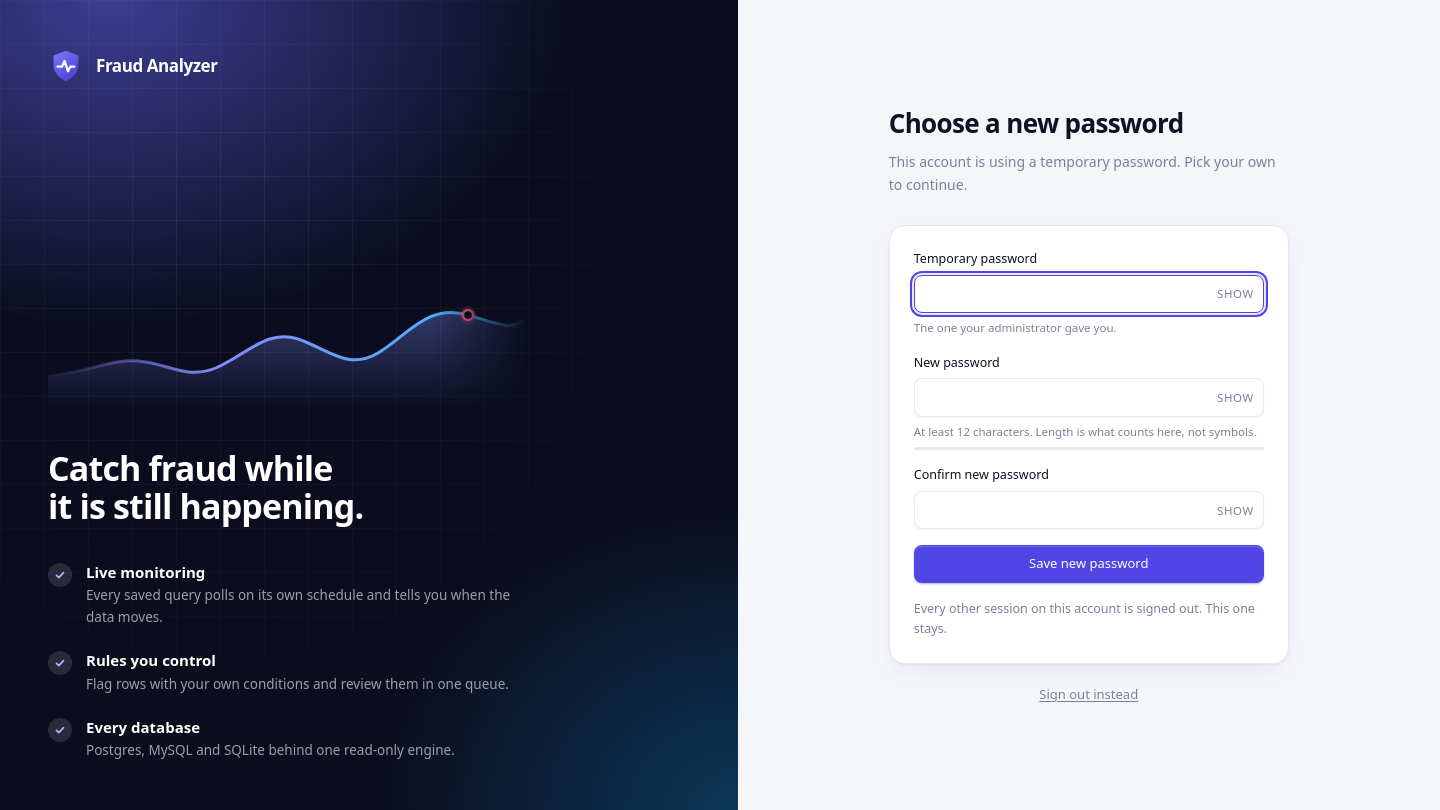
Scenario: what it refuses before spending a round trip › catches a mistyped confirmation on the field, not after the request
Type "temp-one" into the password field labelled "Temporary password" at [1089, 294], box [914, 275, 1264, 313]
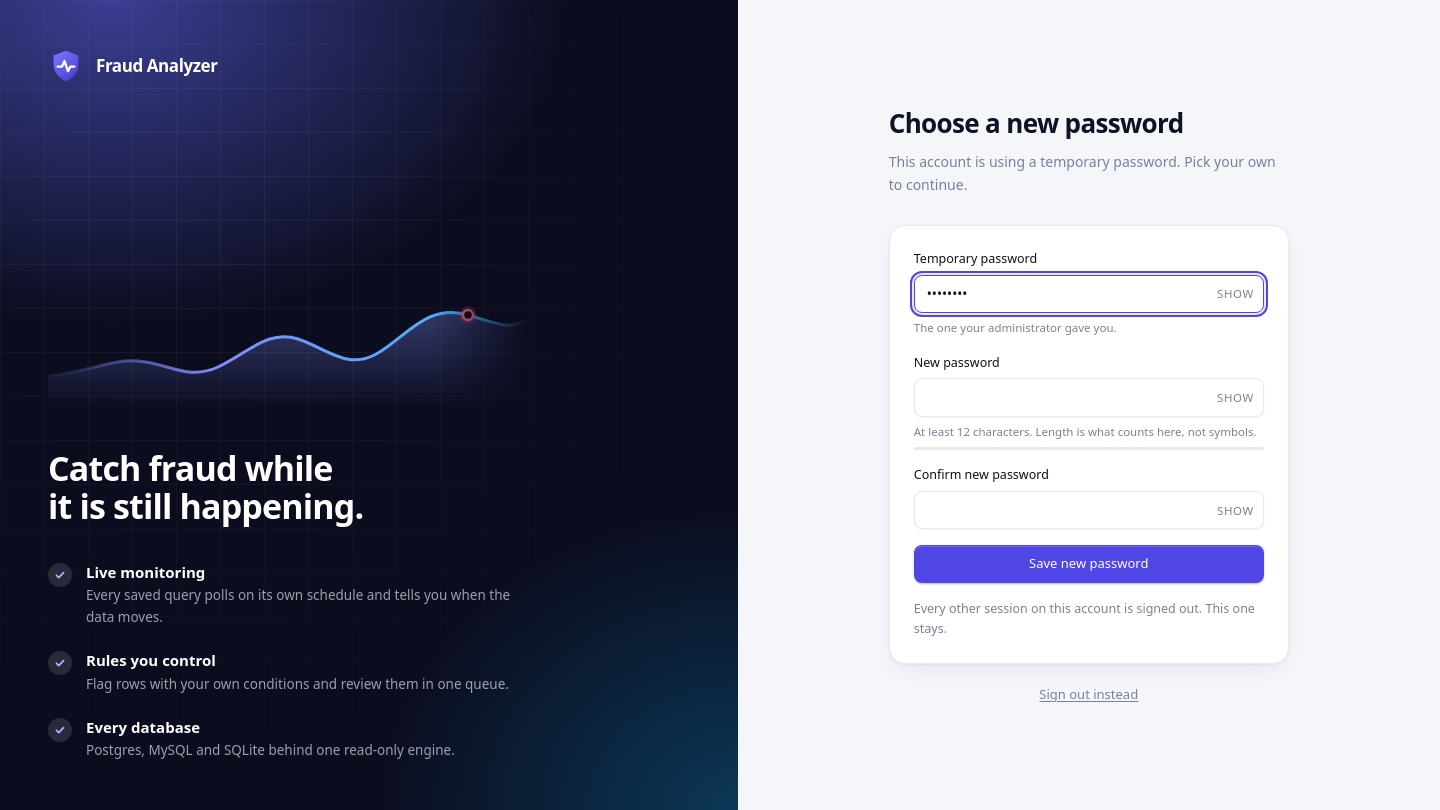
Type "a-perfectly-fine-password" into the password field labelled "New password" at [1089, 398], box [914, 378, 1264, 417]
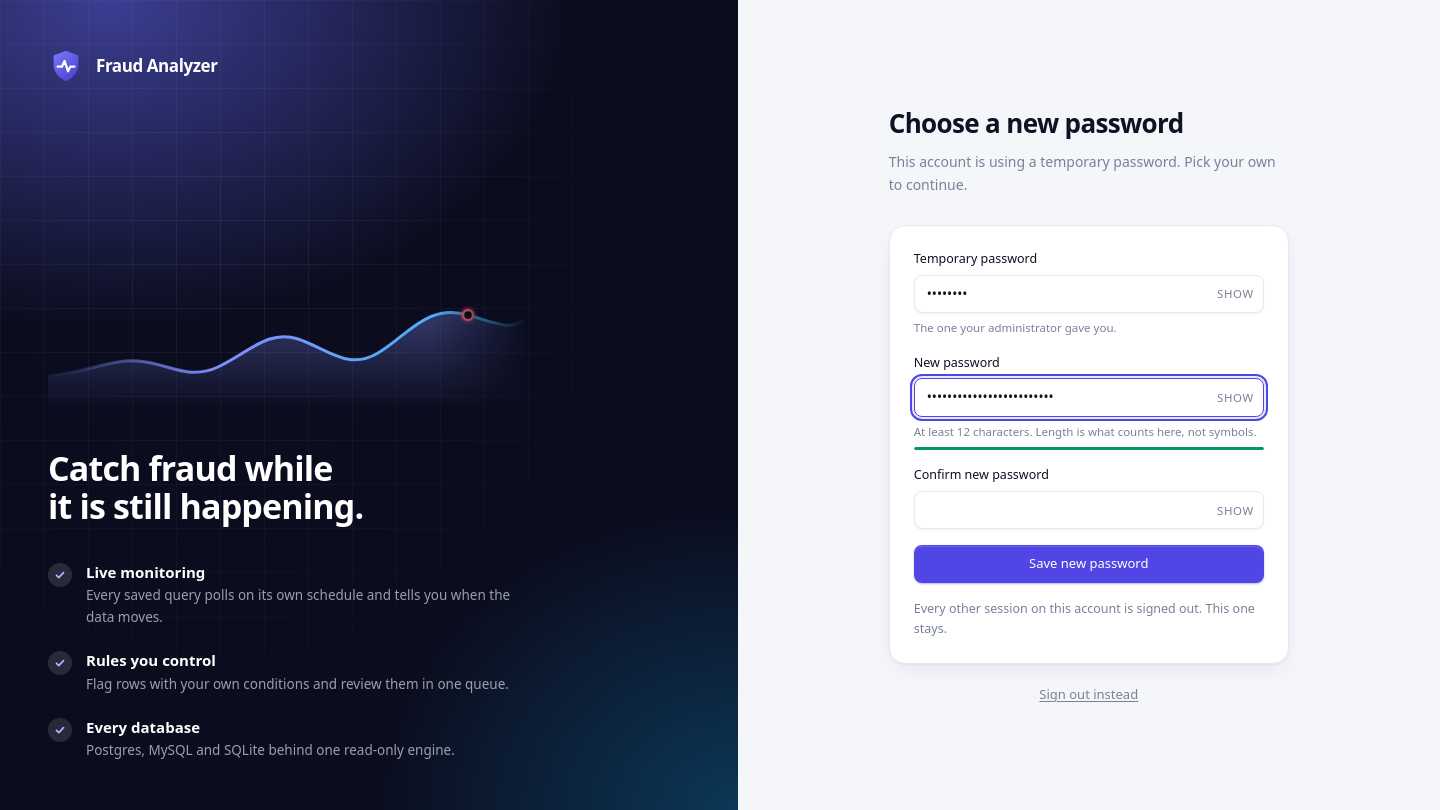
Type "a-perfectly-fine-passworx" into the password field labelled "Confirm new password" at [1089, 510], box [914, 491, 1264, 529]
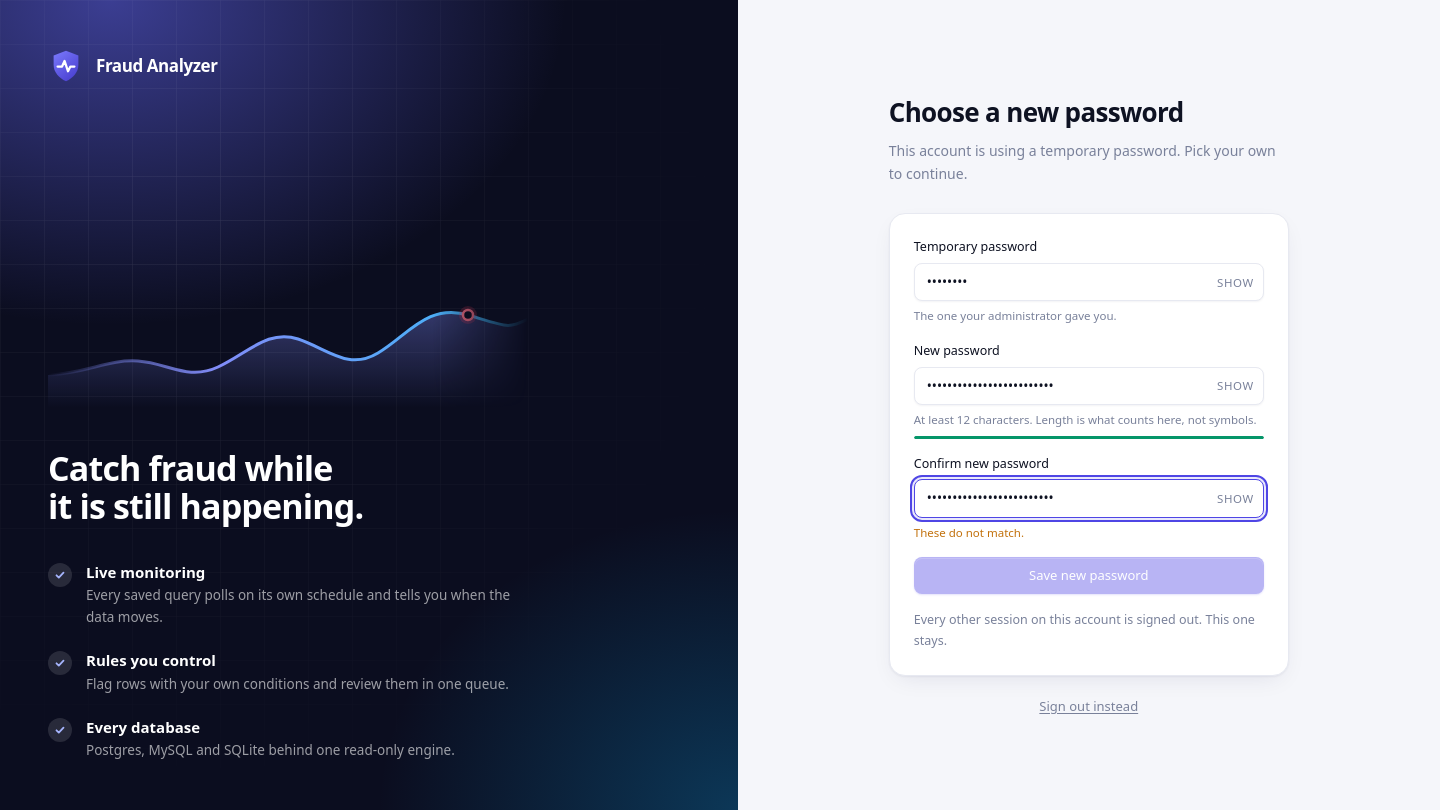
Expected: the text "These do not match." is shown, [914, 525, 1024, 540]
Expected: the button "Save new password" is disabled, [914, 557, 1264, 594]
